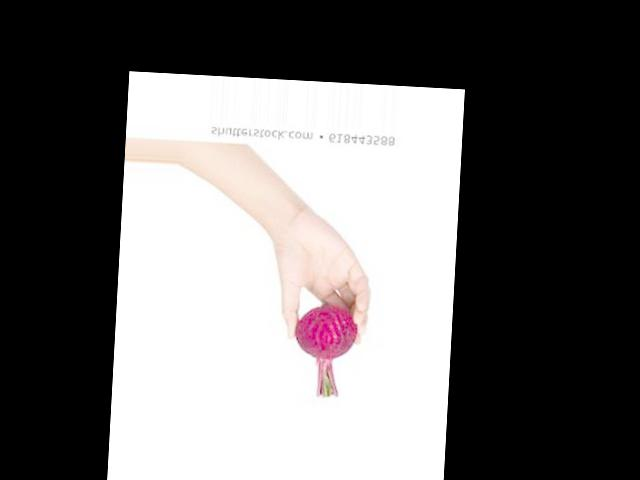beet: (292, 304, 360, 398)
